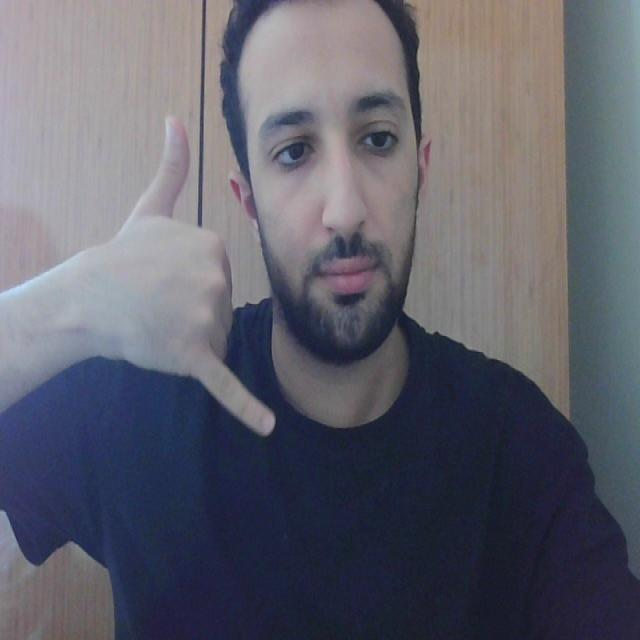Telefon: (125, 94, 286, 444)
